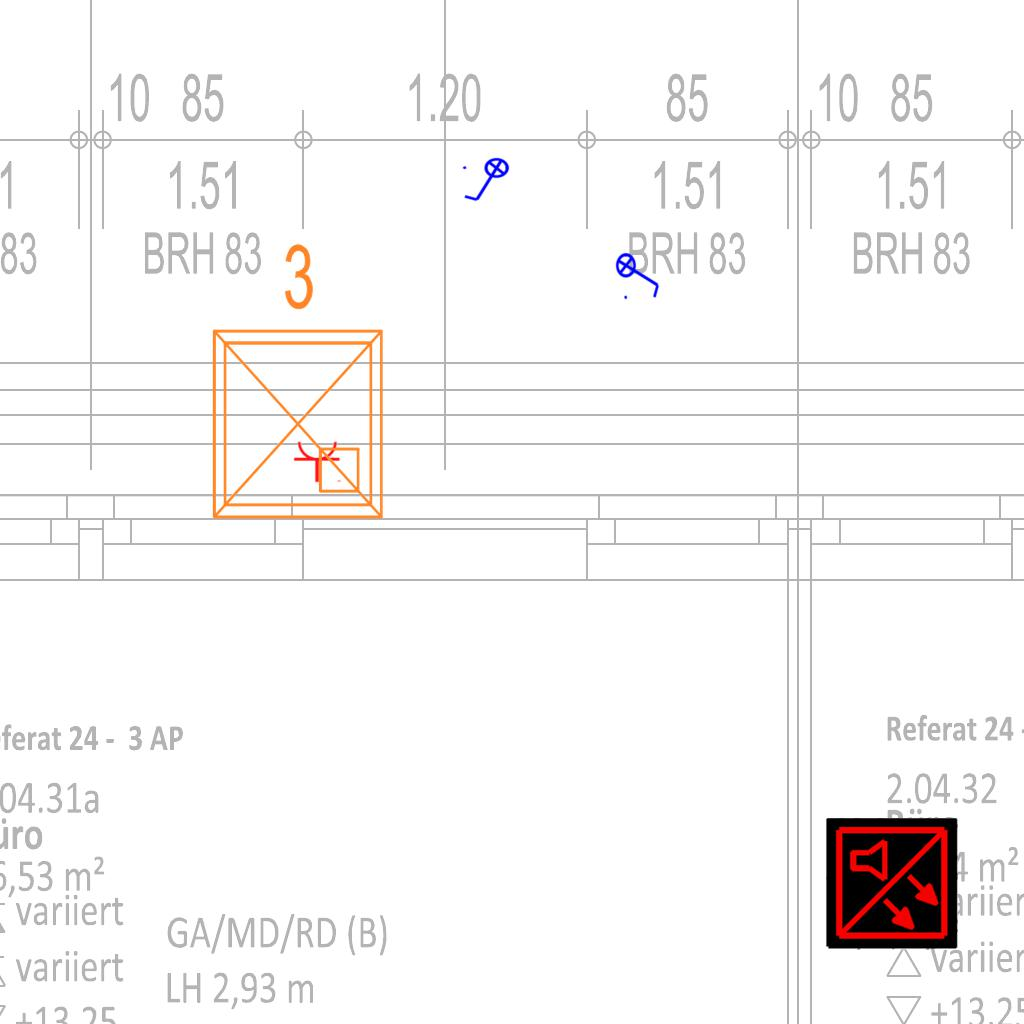Ausschalter_beleuchtet: (615, 246, 663, 302), (460, 157, 516, 205)
Einbaudownlights_LED_Konferenzraeume: (190, 233, 398, 533)
OKW_Multisensormelder_(Kombination_optischer_Rauch-Kahlenmonoxid_Waerme-Melder): (826, 818, 958, 950)
Schukosteckdose_einfach: (293, 440, 343, 483)
